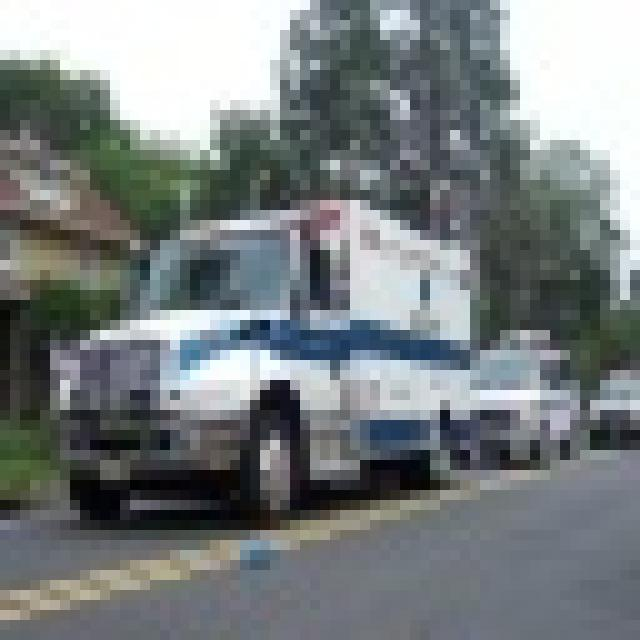Ambulance: (40, 190, 480, 520)
